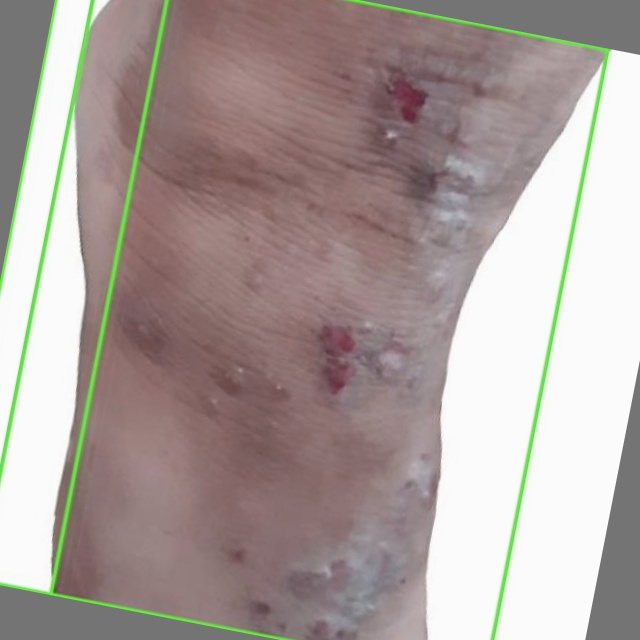Eczema: (0, 0, 607, 639), (0, 0, 166, 594)
